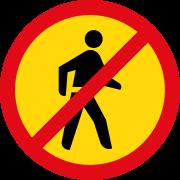Pedestrian Prohibited: (8, 11, 174, 167)
